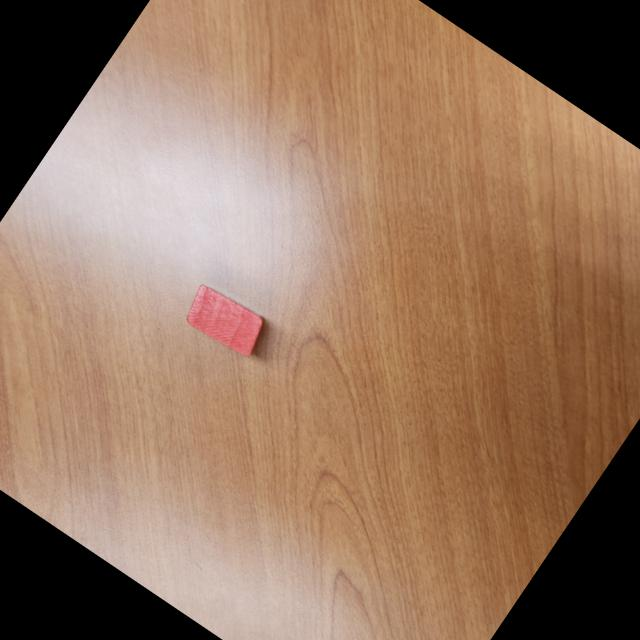red: (177, 277, 276, 366)
